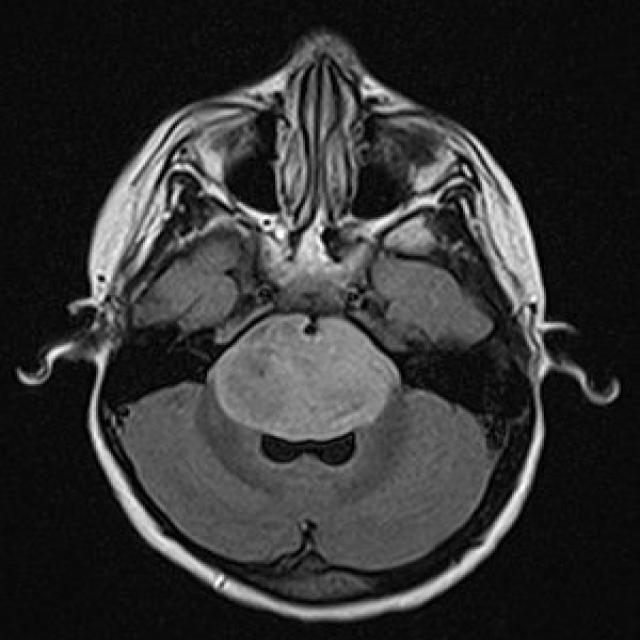brain_tumor: (207, 315, 401, 441)
